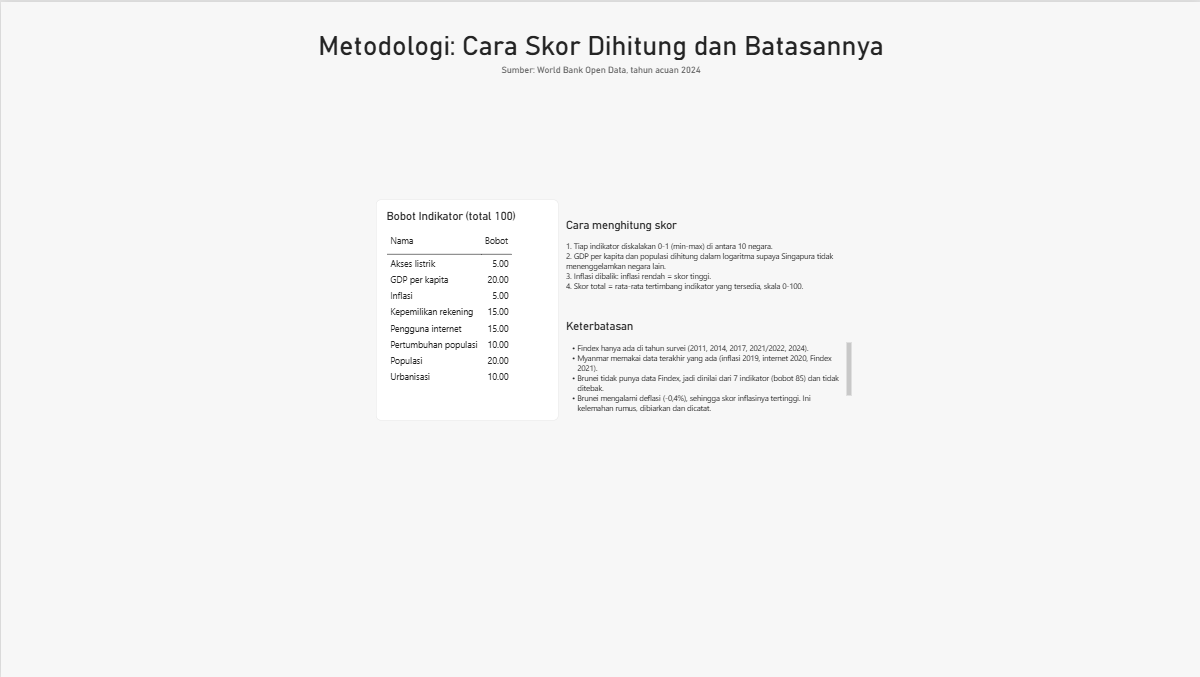

The dashboard page shown, as its layout file describes it:
{"tool":"powerbi","page":{"name":"6. Metodologi","canvas":[1920,1080],"ordinal":5},"visuals":[{"type":"textbox","box":[0,45,1920,52],"z":0},{"type":"textbox","box":[0,97.5,1920,24],"z":1000},{"type":"tableEx","title":"Bobot Indikator (total 100)","fields":{"Values":["bobot.nama","bobot.bobot"]},"box":[600,316.7,292,353.3],"z":4000,"group":"g1"},{"type":"textbox","title":"Cara menghitung skor","box":[904.7,346,457,147.2],"z":5000,"group":"g1"},{"type":"textbox","title":"Keterbatasan","box":[904.7,508.4,457,147.2],"z":6000,"group":"g1"},{"type":"group","id":"g1","title":"Group 1","box":[600,316.7,761.7,353.3],"z":6001}]}

Visuals, with their boxes in screenshot pixels (x1, y1, x2, y2), scaled from the page's 1920x1080 canvas onto the 1200x677 screenshot:
textbox: <bbox>0, 28, 1199, 61</bbox>
textbox: <bbox>0, 61, 1199, 76</bbox>
"Bobot Indikator (total 100)" tableEx: <bbox>375, 199, 558, 420</bbox>
"Cara menghitung skor" textbox: <bbox>565, 217, 851, 309</bbox>
"Keterbatasan" textbox: <bbox>565, 319, 851, 411</bbox>
"Group 1" group: <bbox>375, 199, 851, 420</bbox>
